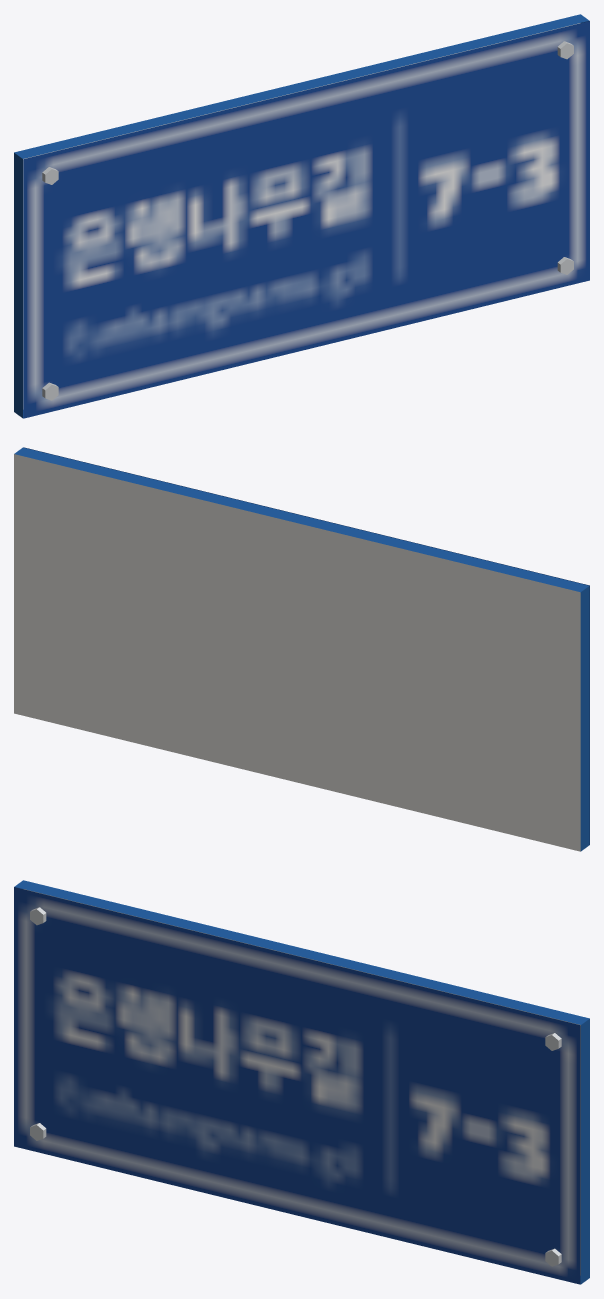
The model's file is SC_Util_Address_Plate_B.gltf.
3 renders of one model, top to bottom at view 1: azimuth 30°, elevation 25°; view 2: azimuth 150°, elevation 25°; view 3: azimuth 330°, elevation 25°, orthographic.
Visible parts, largest first — view 1: SC_Util_Address_Plate_B; view 2: SC_Util_Address_Plate_B; view 3: SC_Util_Address_Plate_B.
Part boxes in pixels (bbox=[...]): SC_Util_Address_Plate_B: bbox=[14, 14, 589, 418]; SC_Util_Address_Plate_B: bbox=[14, 447, 589, 851]; SC_Util_Address_Plate_B: bbox=[14, 880, 589, 1284].
Size of the model in its own units: 0.44 by 0.1925 by 0.0165.
Materials: 2 (2 with a texture image).
